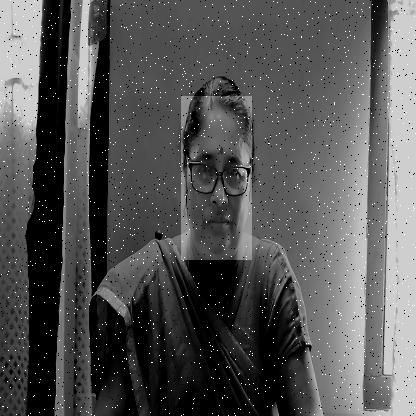Normal: (181, 96, 252, 260)
